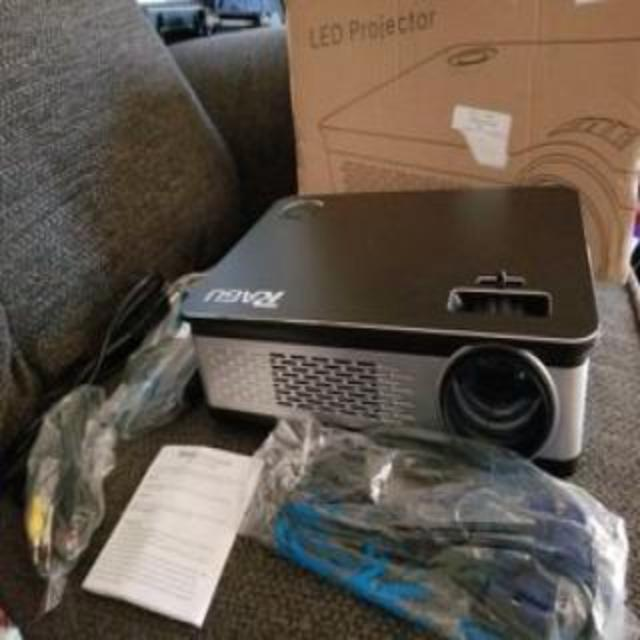Projector: (180, 194, 600, 484)
